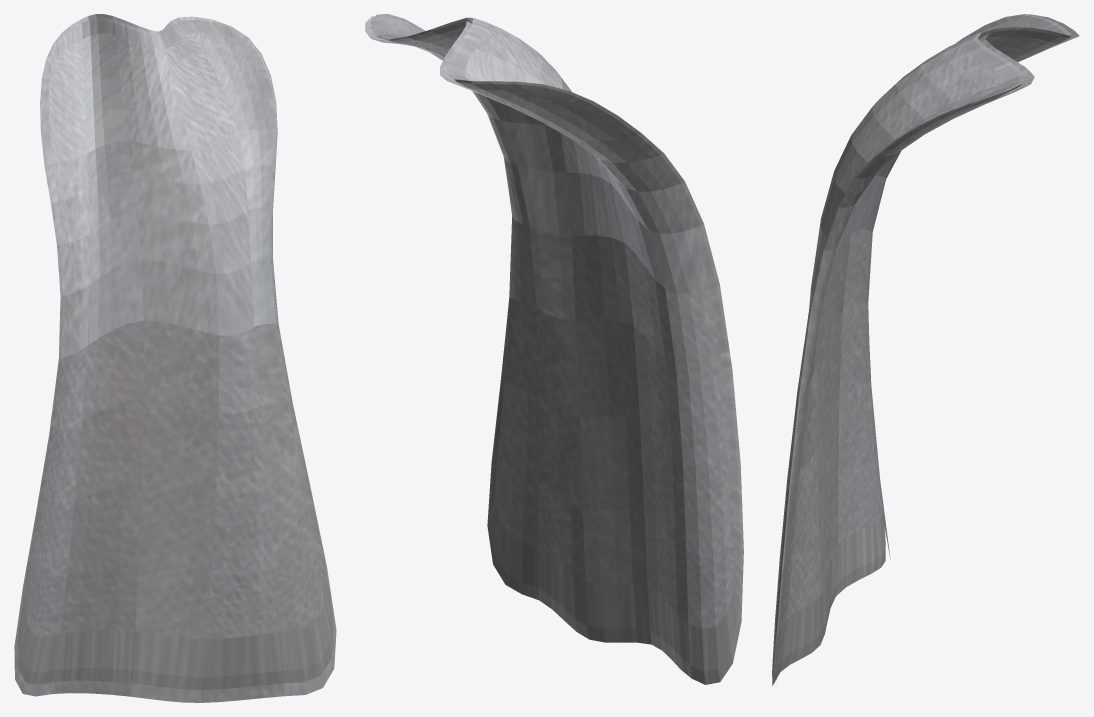
Rendered from clothBottleCloth.gltf.
3 views of the same model, side by side, from view 1: azimuth 30°, elevation 25°; view 2: azimuth 150°, elevation 25°; view 3: azimuth 270°, elevation 25° (orthographic). The views are drawn at different scales.
Visible parts, largest first — view 1: Tuch; view 2: Tuch; view 3: Tuch.
Part boxes in pixels (x1,y1,x2,y2): Tuch: (14,14,336,702); Tuch: (365,14,743,684); Tuch: (772,14,1079,685).
Bounding box in the file's own units: 0.3982 × 0.8288 × 0.36.
1 material, 1 textured.
